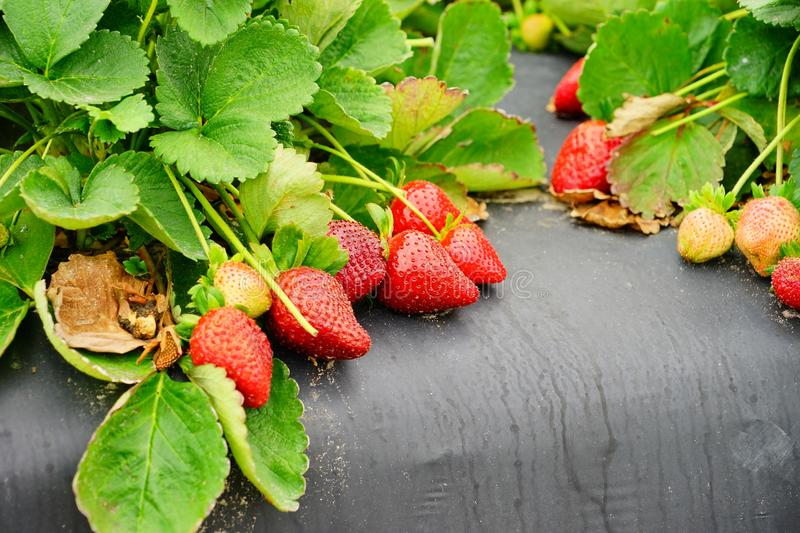ripe: (263, 265, 372, 365), (181, 303, 277, 412), (379, 229, 482, 312), (551, 114, 634, 213), (388, 178, 490, 250), (314, 214, 391, 289), (546, 40, 608, 123), (435, 220, 509, 289), (773, 258, 797, 320)
unripe: (737, 193, 800, 283), (670, 201, 738, 270), (209, 254, 274, 319), (145, 320, 187, 374), (518, 11, 556, 55)
